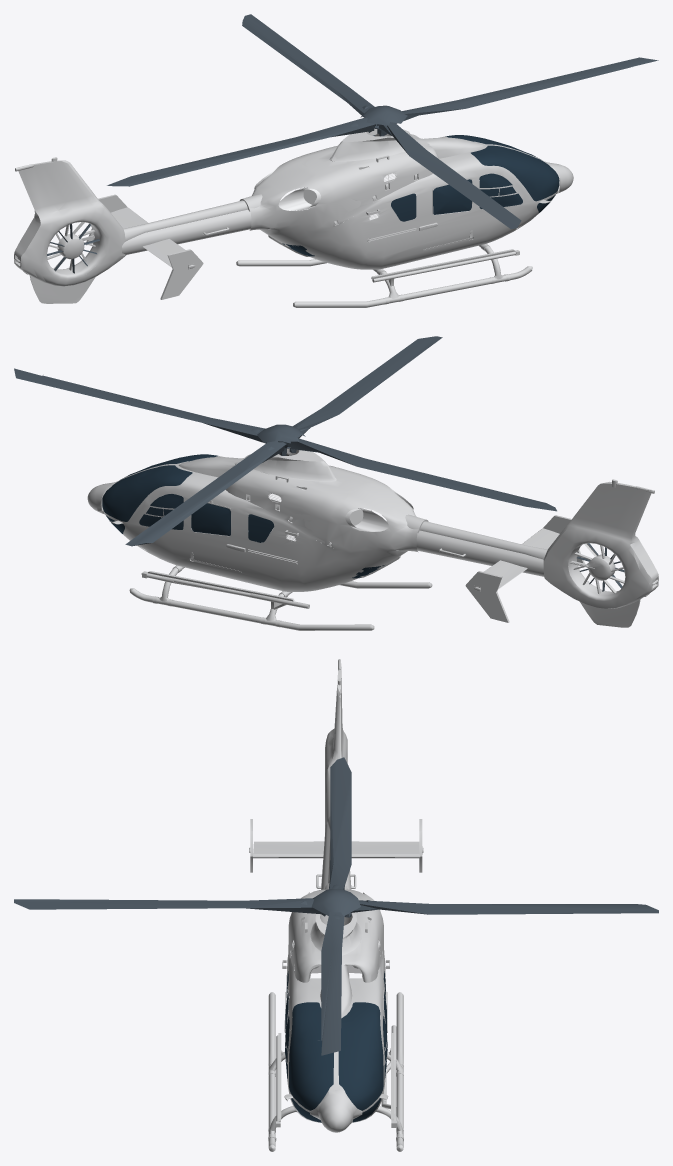
3 renders of one model, top to bottom at view 1: azimuth 30°, elevation 25°; view 2: azimuth 150°, elevation 25°; view 3: azimuth 270°, elevation 25°, orthographic. The views are drawn at different scales.
Parts seen in each view (by area): view 1: hull, rotor, glass, engine; view 2: hull, rotor, glass, engine; view 3: hull, rotor, glass.
Part boxes in pixels (box(x1,y1,x2,y2)): hull: box(14, 128, 573, 307); rotor: box(107, 14, 658, 229); glass: box(282, 135, 559, 256); engine: box(254, 167, 321, 210); hull: box(87, 447, 658, 630); rotor: box(14, 336, 556, 546); glass: box(102, 454, 384, 578); engine: box(345, 487, 413, 531); hull: box(249, 659, 423, 1151); rotor: box(14, 757, 658, 1055); glass: box(285, 971, 387, 1122).
Size of the model in its own units: 14.13 by 4.33 by 10.99.
